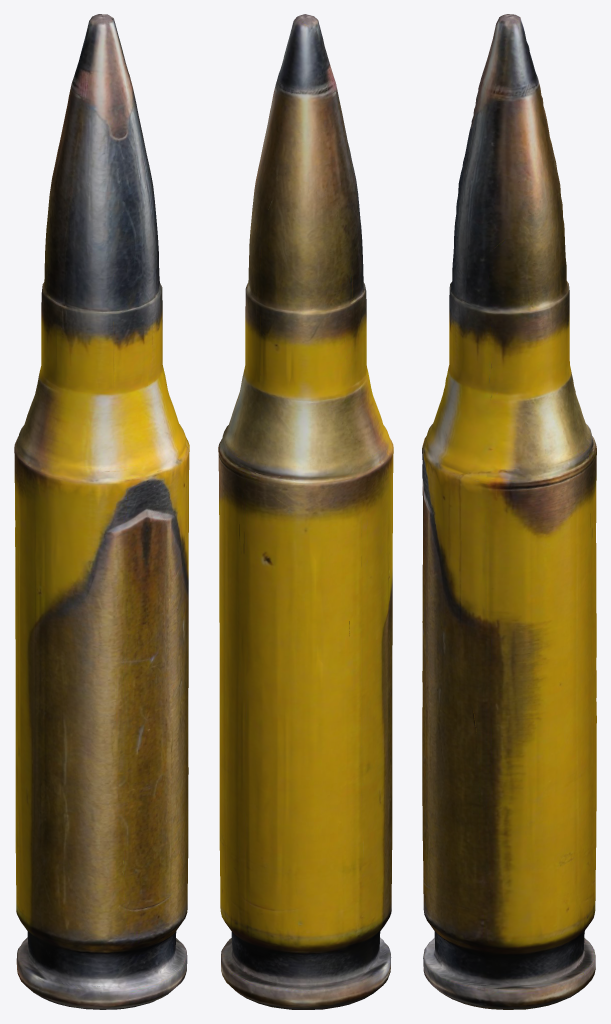
File: Bullet.fbx
The picture shows the model from 3 angles, left to right: view 1: azimuth 30°, elevation 25°; view 2: azimuth 150°, elevation 25°; view 3: azimuth 270°, elevation 25°; orthographic projection.
Visible parts, largest first — view 1: Mesh1; view 2: Mesh1; view 3: Mesh1.
Boxes of the visible parts, <box> form: Mesh1: <box>14,14,189,1009</box>; Mesh1: <box>218,14,393,1009</box>; Mesh1: <box>422,14,596,1009</box>.
Size of the model in its own units: 33 by 200 by 32.98.
1 material, 1 textured.
